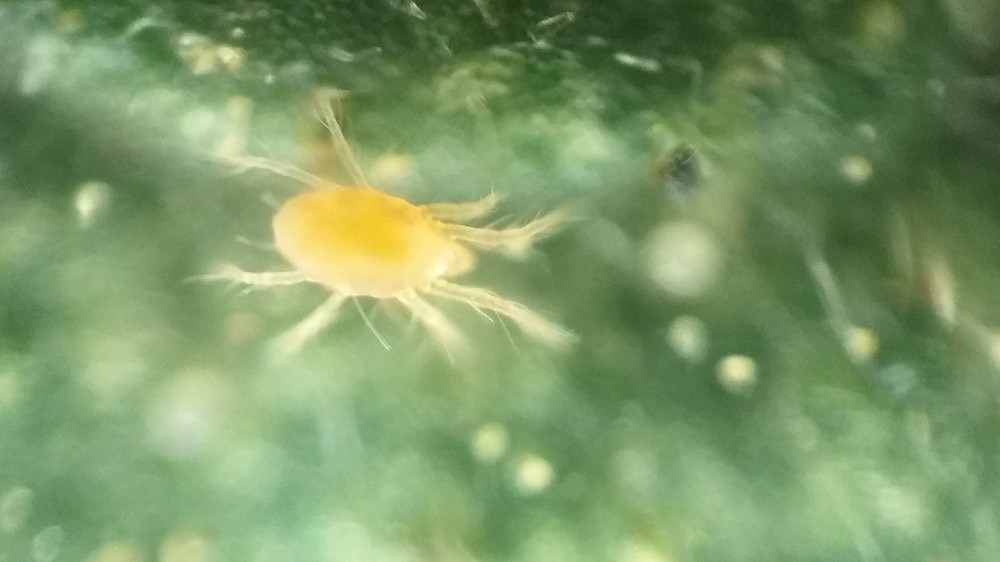Aracnido Rojo: (188, 100, 600, 380)
